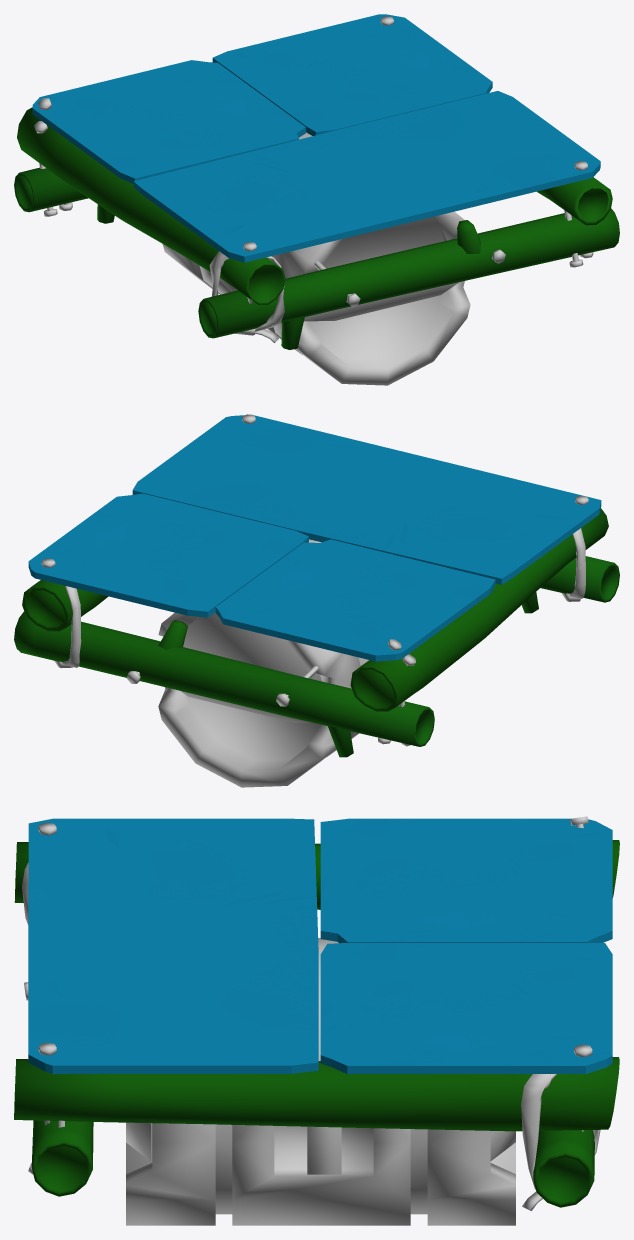
The model's file is RaftBlock.fbx.
3 renders of one model, top to bottom at view 1: azimuth 30°, elevation 25°; view 2: azimuth 150°, elevation 25°; view 3: azimuth 270°, elevation 25°, orthographic. The views are drawn at different scales.
Parts seen in each view (by area): view 1: Cube.003; view 2: Cube.003; view 3: Cube.003.
Part boxes in pixels (x1,y1,x2,y2): Cube.003: (14,14,619,385); Cube.003: (14,414,619,787); Cube.003: (14,816,619,1225).
Size of the model in its own units: 6.43 by 3.18 by 6.21.
